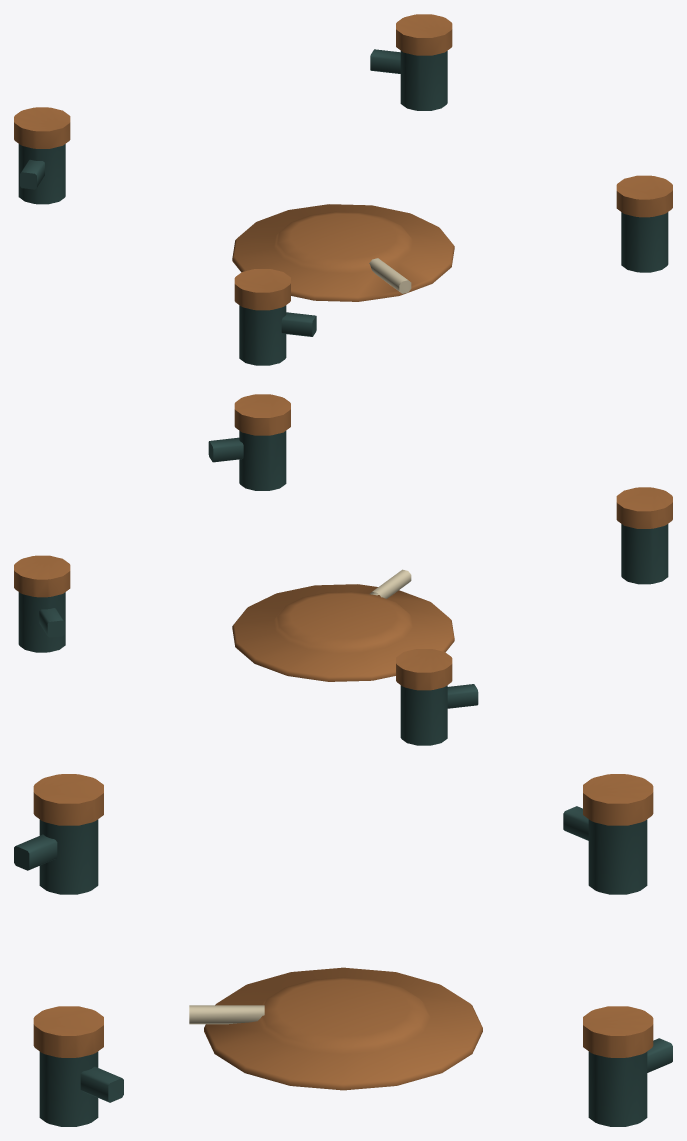
Rendered from geyser_launcher_fittings.glb.
The picture shows the model from 3 angles, top to bottom: view 1: azimuth 30°, elevation 25°; view 2: azimuth 150°, elevation 25°; view 3: azimuth 270°, elevation 25°; orthographic projection. The views are drawn at different scales.
Parts seen in each view (by area): view 1: Fittings; view 2: Fittings; view 3: Fittings.
Part boxes in pixels (bbox=[...]): Fittings: bbox=[14, 14, 672, 365]; Fittings: bbox=[14, 394, 672, 745]; Fittings: bbox=[14, 774, 672, 1126].
Size of the model in its own units: 5.43 by 1.15 by 5.43.
